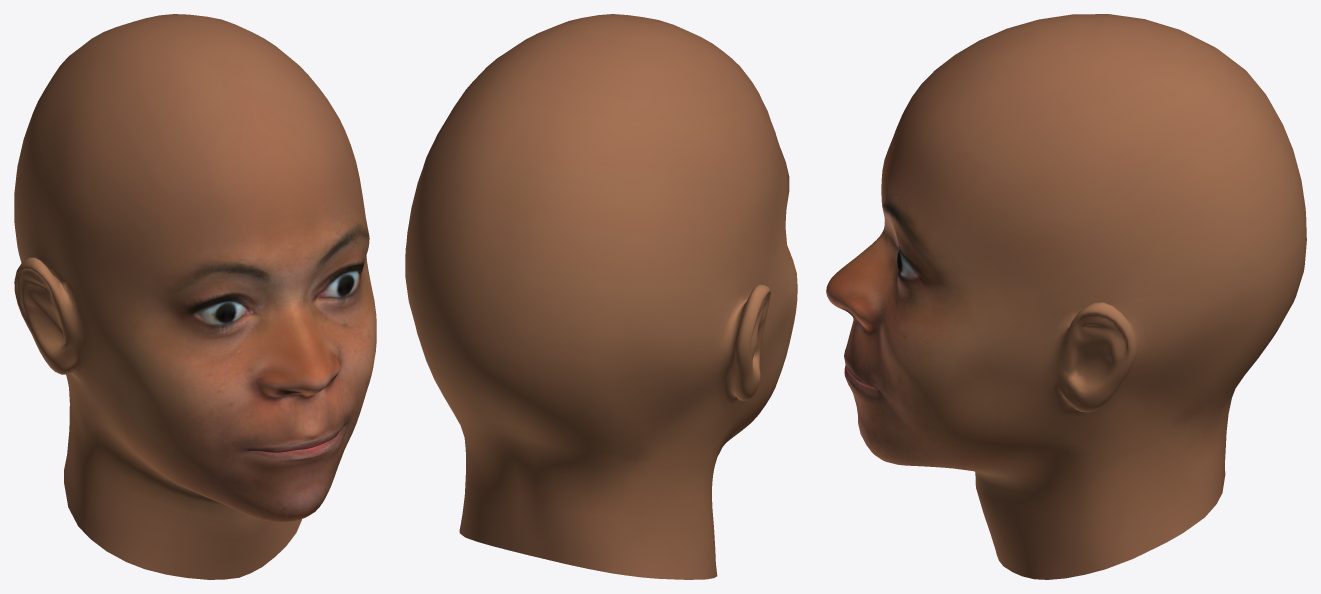
File: v332_obj_ModifierLipTightener(AU23).obj
3 views of the same model, side by side, from view 1: azimuth 30°, elevation 25°; view 2: azimuth 150°, elevation 25°; view 3: azimuth 270°, elevation 25° (orthographic). The views are drawn at different scales.
Visible parts, largest first — view 1: HeadHires; view 2: HeadHires; view 3: HeadHires.
Boxes of the visible parts, x1,y1,x2,y2 form: HeadHires: (14, 14, 376, 579); HeadHires: (405, 14, 797, 579); HeadHires: (826, 14, 1306, 579).
Size of the model in its own units: 187 by 282 by 233.
